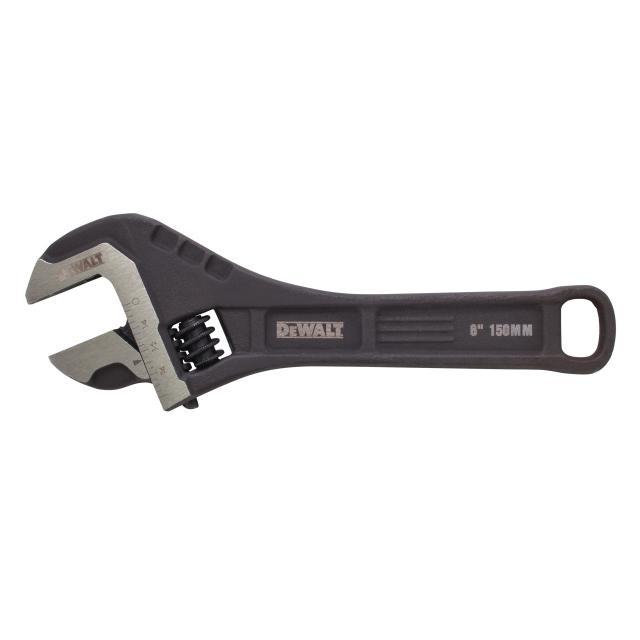wrench: (8, 204, 619, 414)
